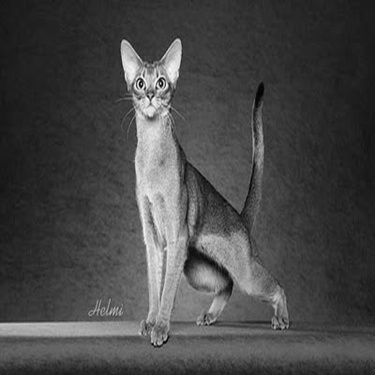cat: (119, 31, 293, 347)
